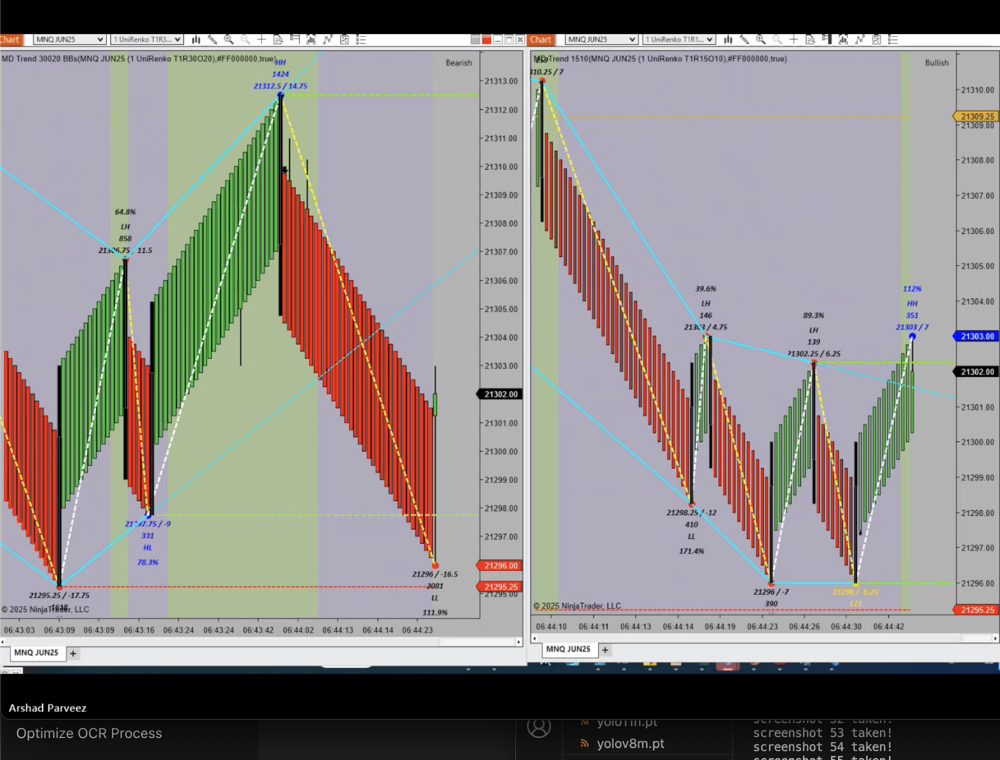HH: (268, 57, 296, 70), (903, 295, 920, 312)
HL: (135, 539, 160, 556)
LH: (693, 297, 722, 313), (800, 323, 828, 337), (113, 222, 140, 233)
LL: (421, 589, 449, 605), (682, 529, 702, 544)
